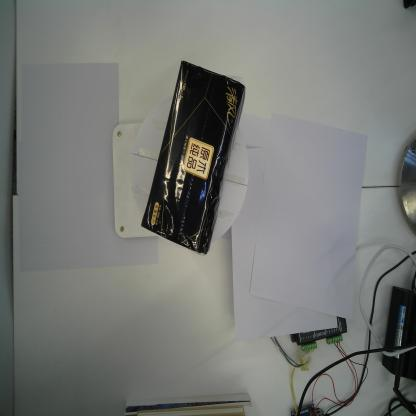Tissue: (140, 60, 247, 256)
